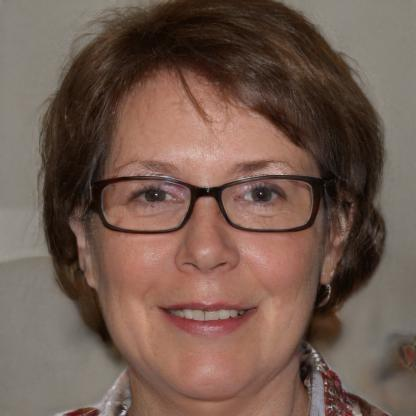glasses: (88, 169, 321, 236)
